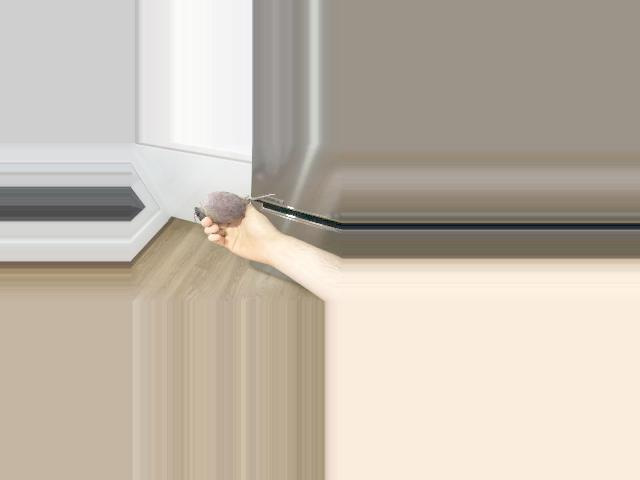beet: (193, 191, 274, 223)
